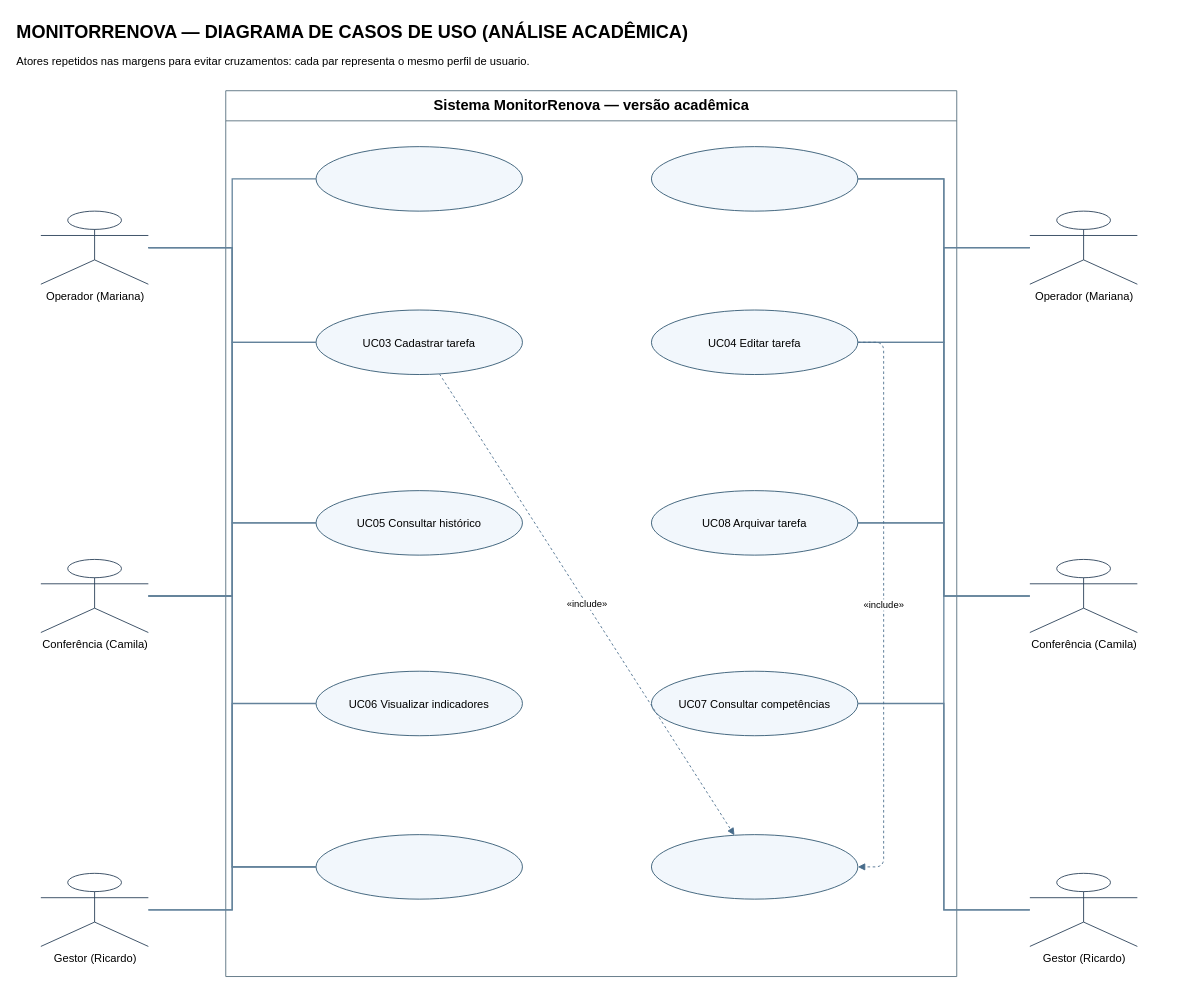
The diagram is 1190 pixels wide and 992 high, and some of its shapes have lost their labels. Each missing label, with the centre of its shape:
"UC01 Consultar vencimentos" belongs at point (418, 178).
"UC02 Filtrar seguros" belongs at point (754, 178).
"UC09 Autenticar-se" belongs at point (418, 866).
"UC10 Validar dados" belongs at point (754, 866).
